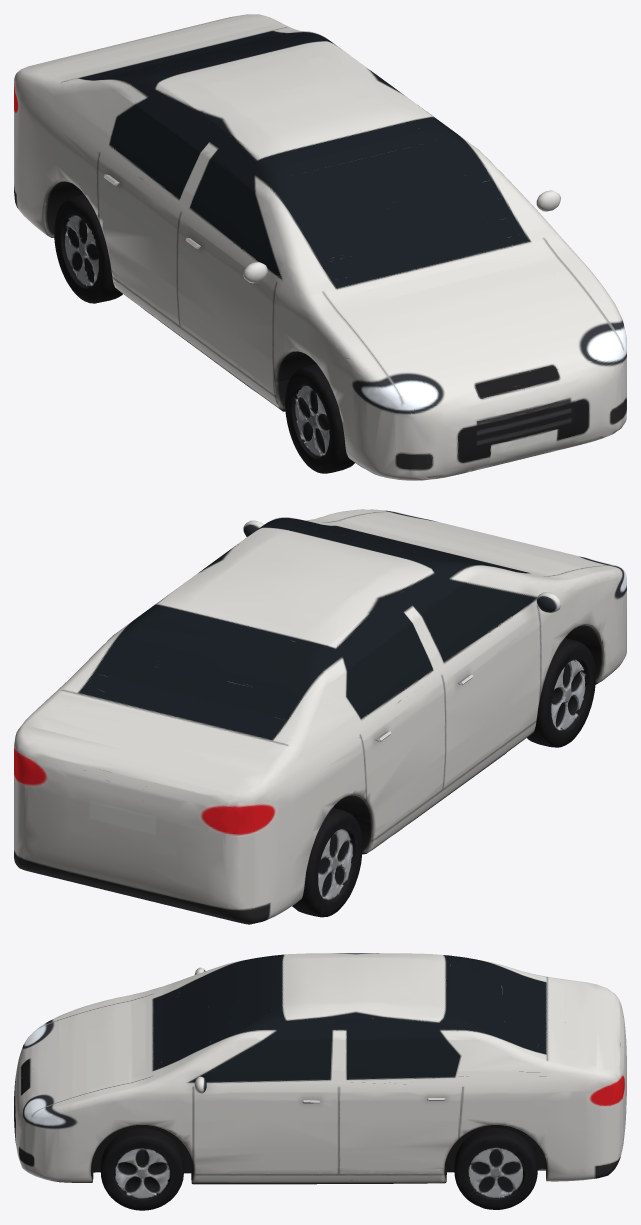
The model's file is toyota_vios.glb.
3 renders of one model, top to bottom at view 1: azimuth 30°, elevation 25°; view 2: azimuth 150°, elevation 25°; view 3: azimuth 270°, elevation 25°, orthographic. The views are drawn at different scales.
Parts seen in each view (by area): view 1: toyota_vios; view 2: toyota_vios; view 3: toyota_vios.
Part boxes in pixels (box(x1,y1,x2,y2)): toyota_vios: box(14, 14, 626, 480); toyota_vios: box(14, 509, 626, 924); toyota_vios: box(14, 953, 626, 1210).
Size of the model in its own units: 2.01 by 1.47 by 4.42.
Materials: 1 (1 with a texture image).
